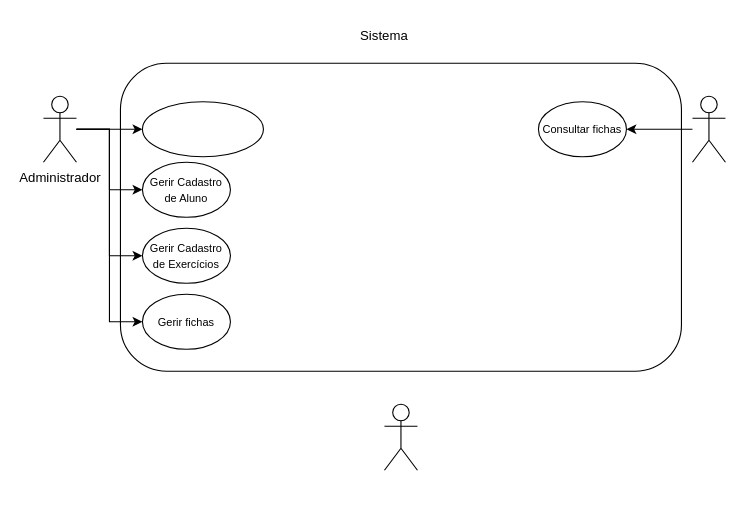
The diagram is 745 pixels wide and 512 high, and some of its shapes have lost their labels. The shapes that lost their labels are listed below. From the top down, each one's box as (x1, y1, x2, y2) in pixels, then its label:
(141, 101, 263, 157): Gerir Cadastro de Adm/Nutricionista
(691, 95, 725, 162): Aluno
(383, 403, 417, 470): Nutricionita
